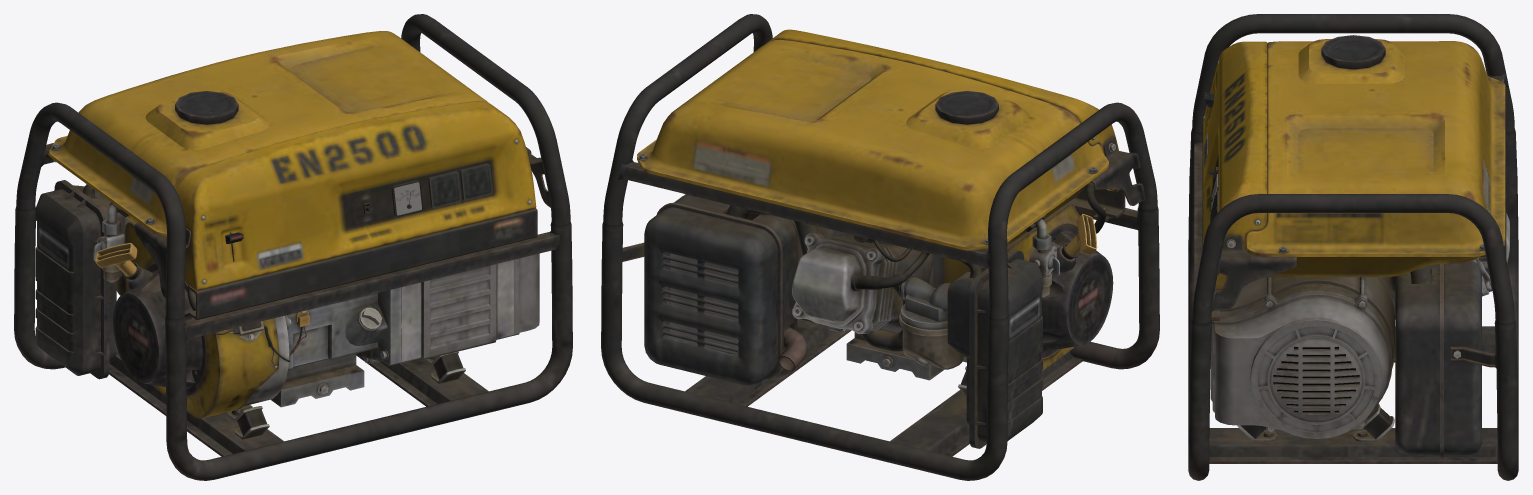
File: portable_generator.glb
3 renders of one model, left to right at view 1: azimuth 30°, elevation 25°; view 2: azimuth 150°, elevation 25°; view 3: azimuth 270°, elevation 25°, orthographic.
Parts seen in each view (by area): view 1: portable_generator; view 2: portable_generator; view 3: portable_generator.
Part boxes in pixels (box(x1,y1,x2,y2)): portable_generator: box(14, 14, 572, 480); portable_generator: box(601, 14, 1159, 480); portable_generator: box(1188, 14, 1518, 480).
Bounding box in the file's own units: 0.8183 × 0.5769 × 0.564.
2 materials, 2 textured.
